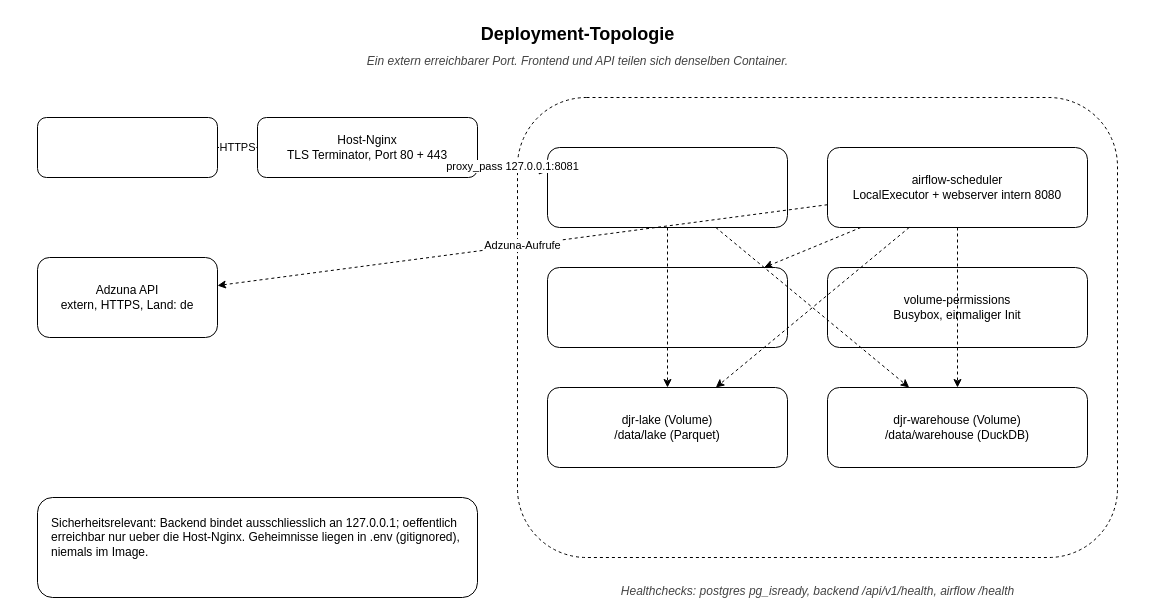
This 1154x615 diagram has some shape labels left out. The box of each missing label's shape, as (x1, y1, x2, y2) in pixels:
backend Port 127.0.0.1:8081 /api/v1/* + statisches Frontend: (546, 146, 788, 228)
Docker Compose Stack (VPS, Loopback-only): (516, 96, 1118, 558)
Endnutzer Browser, HTTPS: (36, 116, 218, 178)
postgres nur Airflow Metadaten: (546, 266, 788, 348)
